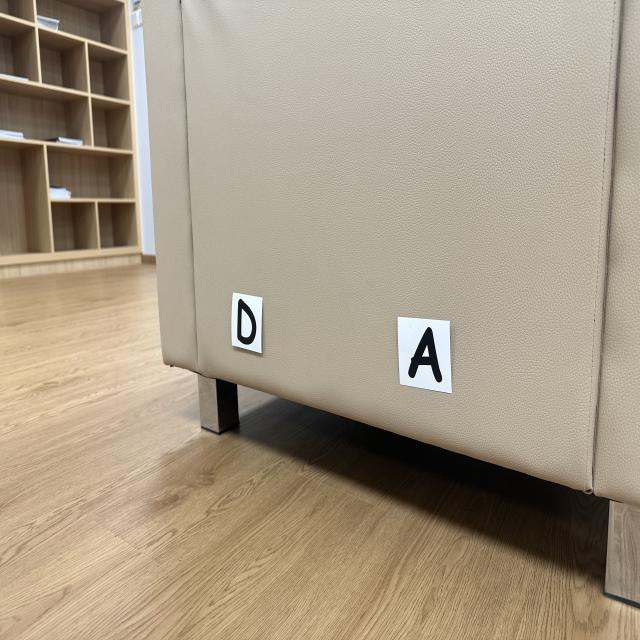A: (409, 327, 442, 382)
D: (236, 298, 256, 345)
